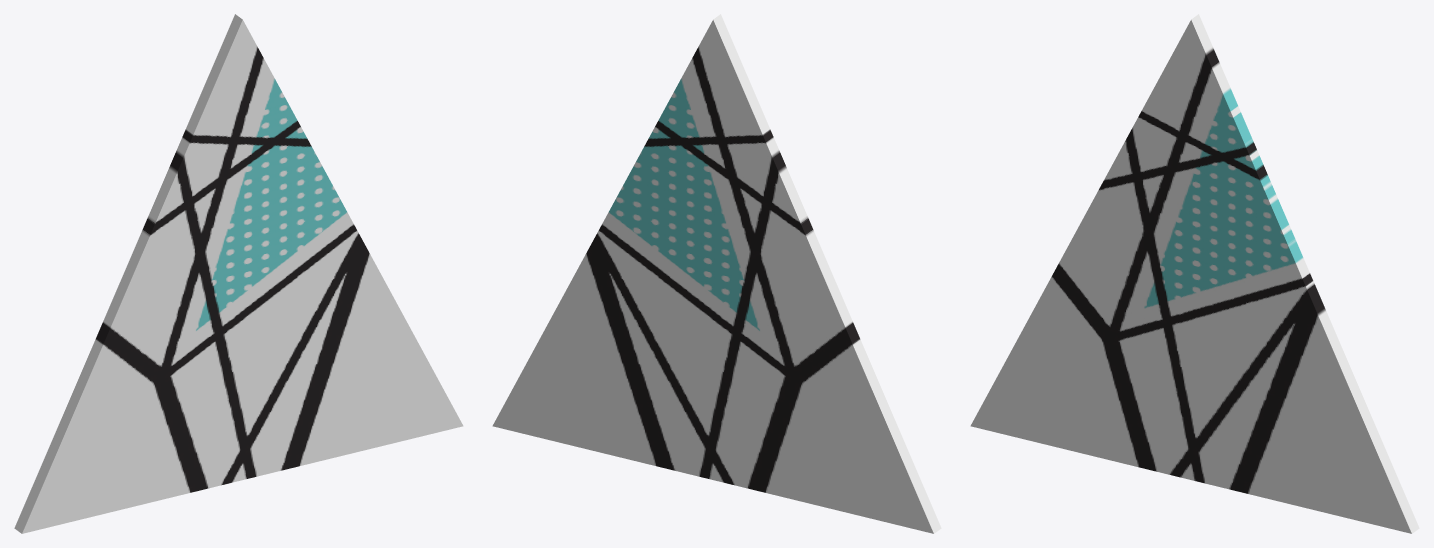
Rendered from TrianglePlane.fbx.
3 views of the same model, side by side, from view 1: azimuth 30°, elevation 25°; view 2: azimuth 150°, elevation 25°; view 3: azimuth 330°, elevation 25° (orthographic).
Parts seen in each view (by area): view 1: TrianglePlane; view 2: TrianglePlane; view 3: TrianglePlane.
Boxes of the visible parts, box(x1,y1,x2,y2) form: TrianglePlane: box(14, 14, 463, 533); TrianglePlane: box(492, 14, 941, 533); TrianglePlane: box(970, 14, 1419, 533).
Bounding box in the file's own units: 100 × 99.89 × 3.
Materials: 1 (1 with a texture image).
